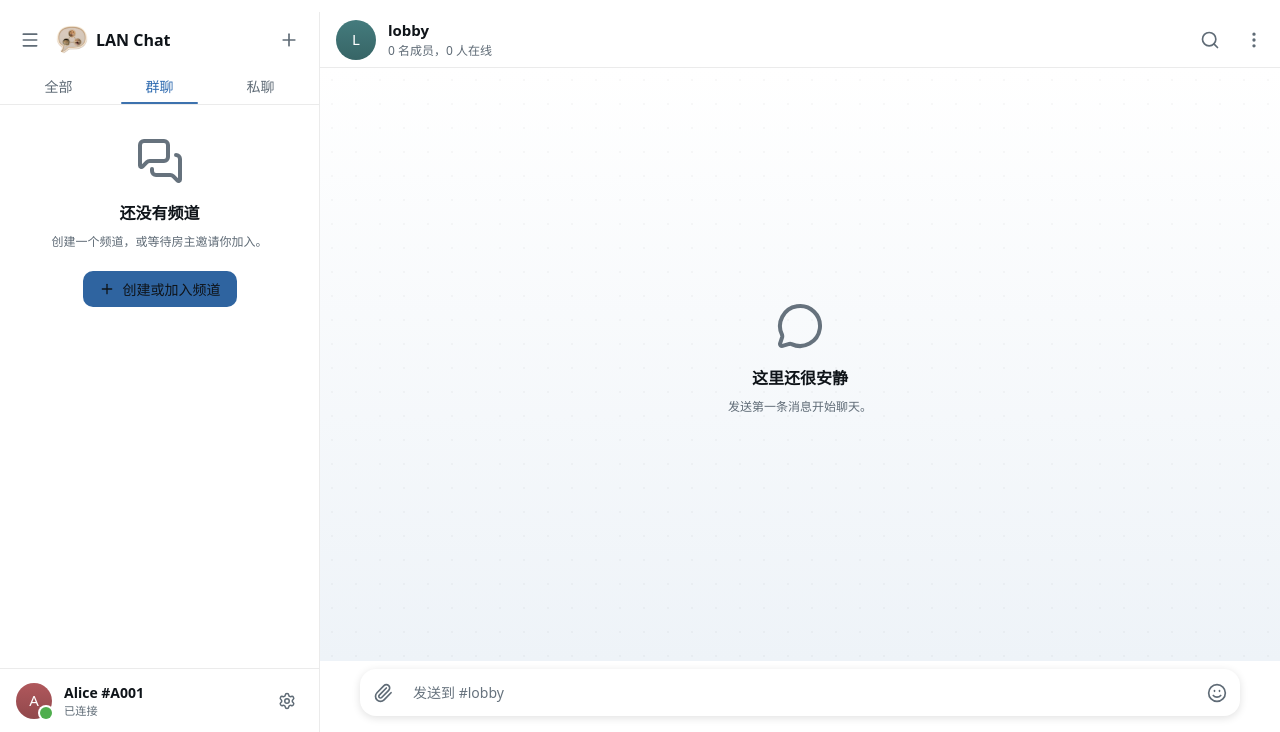
Test case: App › switches to the workspace when the bridge publishes a connected state
The image size is (1280, 732).
Expected: the heading named "# lobby" is shown, [388, 20, 429, 40]
Expected: the text "Alice #A001" is shown, [64, 683, 144, 702]
Click the button named "设置" at [287, 700], box [271, 684, 303, 716]
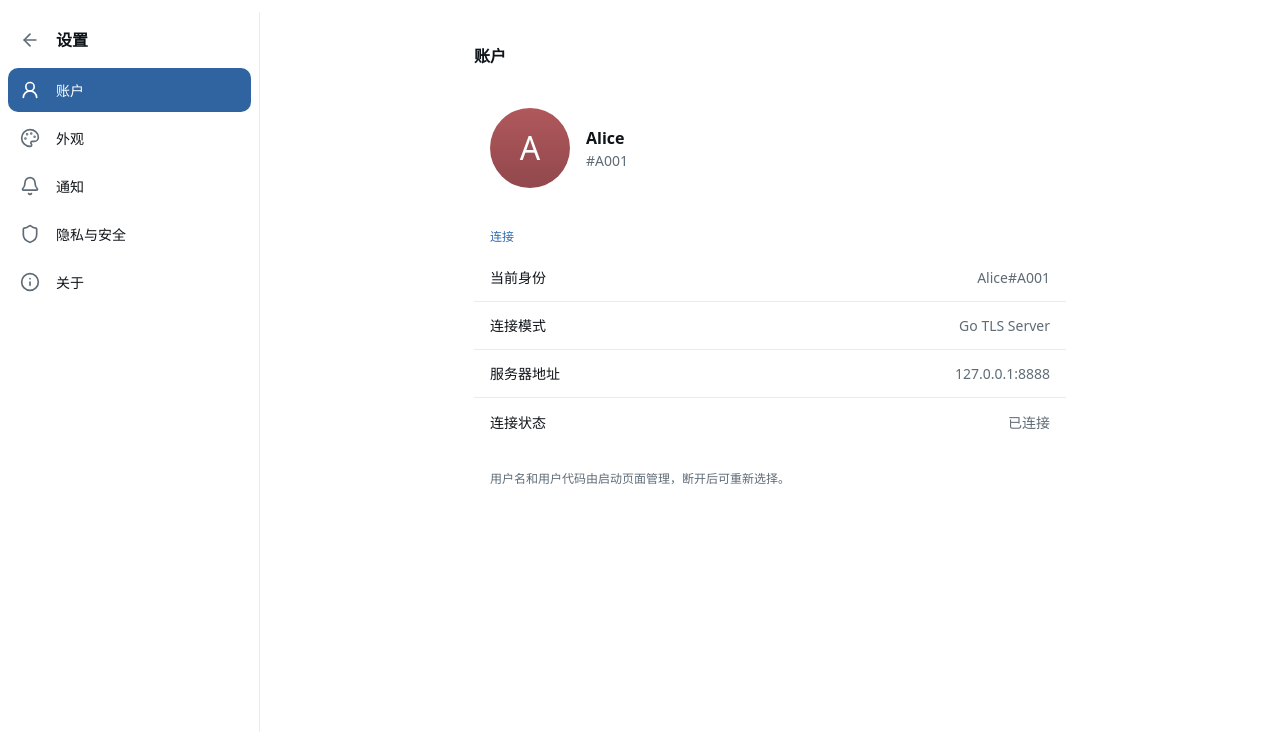
Result: the heading "设置" is shown at [56, 28, 88, 52]
